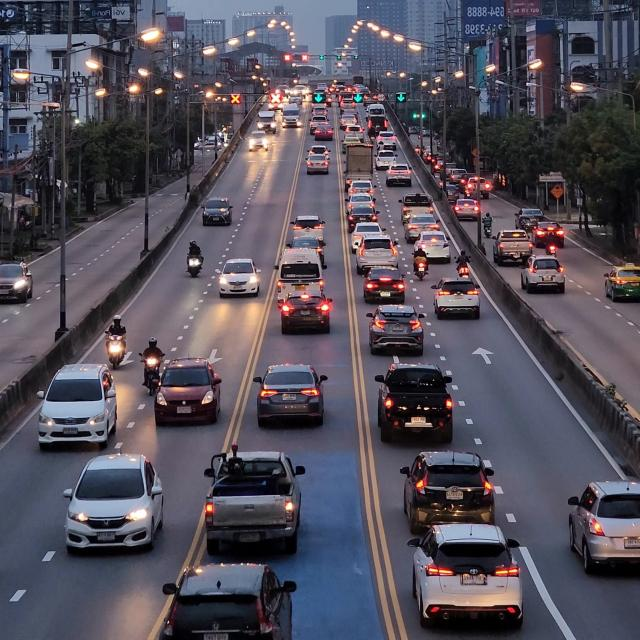Car: (149, 560, 297, 640), (406, 524, 524, 624), (63, 456, 167, 554), (201, 450, 301, 550), (557, 475, 640, 575), (396, 449, 496, 530), (36, 362, 118, 449), (250, 363, 326, 431), (151, 356, 220, 424), (362, 299, 422, 353), (273, 244, 325, 306), (431, 280, 483, 318), (279, 296, 330, 334), (214, 256, 257, 298), (518, 258, 565, 296), (361, 265, 406, 303)
